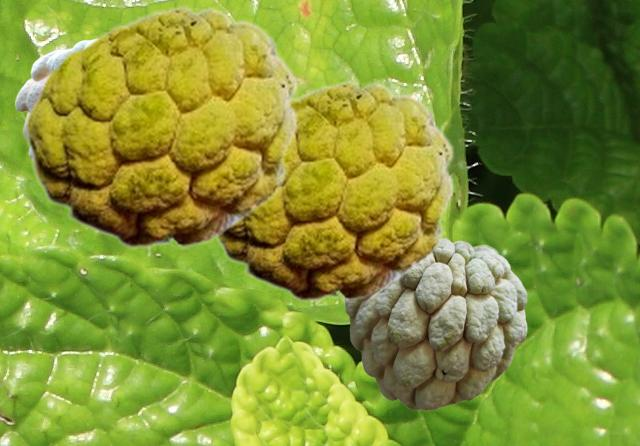atis: (23, 5, 298, 248), (215, 80, 454, 301), (344, 238, 526, 409), (15, 39, 88, 157)
